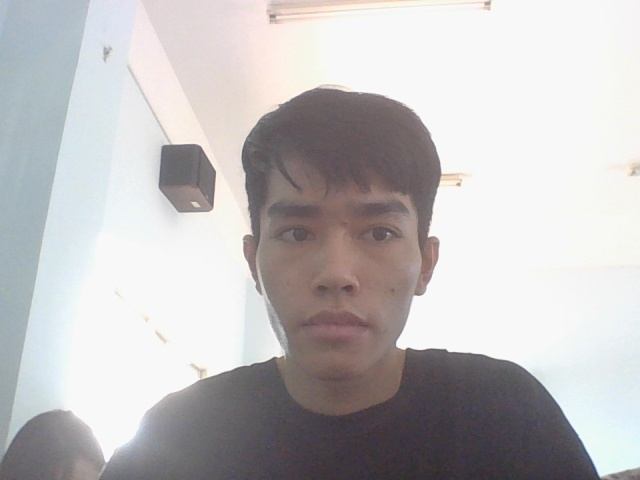real: (225, 68, 457, 397)
